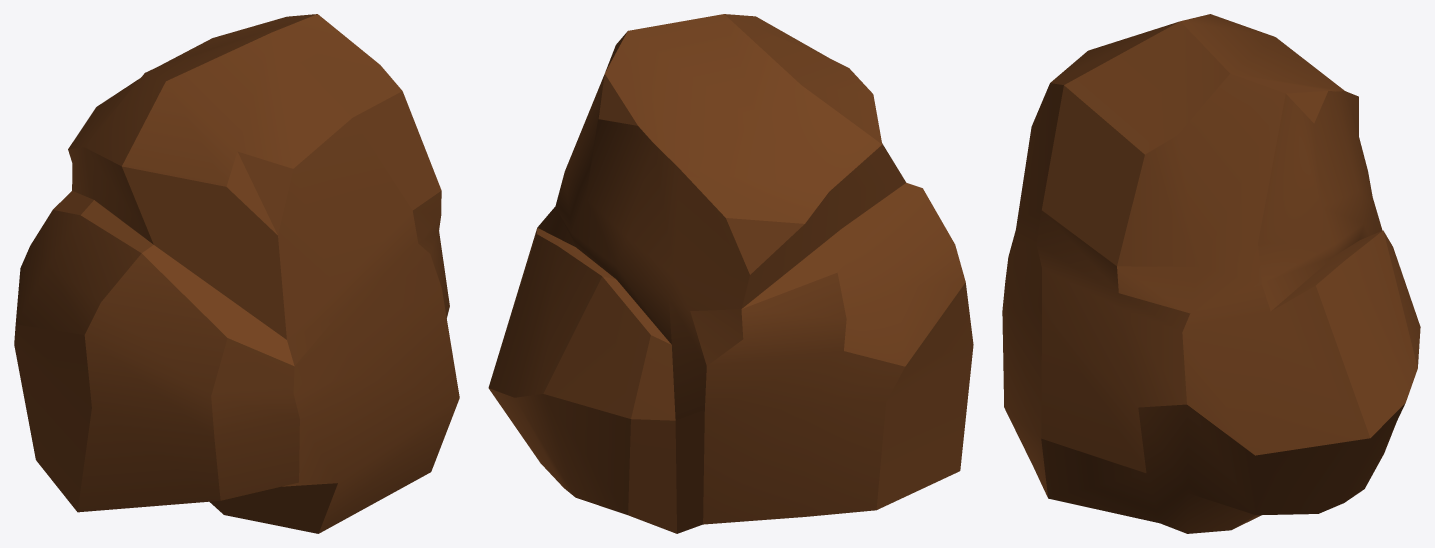
File: rock-1.glb
3 views of the same model, side by side, from view 1: azimuth 30°, elevation 25°; view 2: azimuth 150°, elevation 25°; view 3: azimuth 270°, elevation 25° (orthographic). The views are drawn at different scales.
Visible parts, largest first — view 1: Rock_1; view 2: Rock_1; view 3: Rock_1.
Part boxes in pixels (box(x1,y1,x2,y2)): Rock_1: box(14, 14, 459, 533); Rock_1: box(488, 14, 973, 533); Rock_1: box(1002, 14, 1420, 533).
Bounding box in the file's own units: 3.1 × 3.61 × 2.83.
